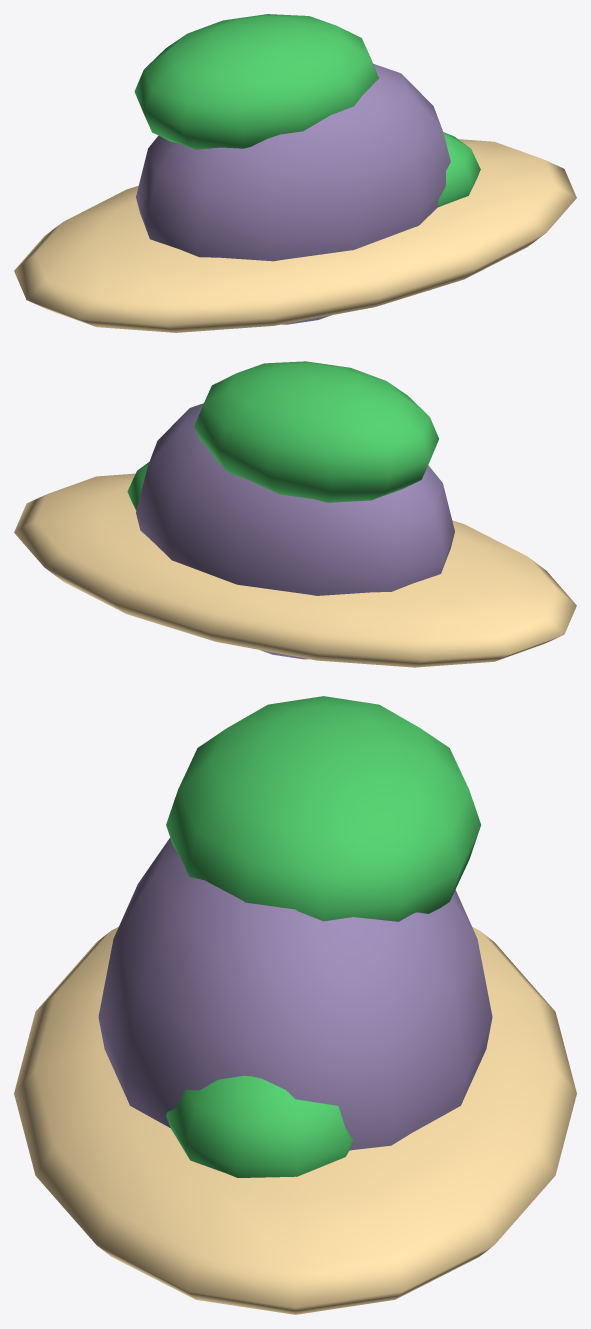
Rendered from island.glb.
3 views of the same model, one above another, from view 1: azimuth 30°, elevation 25°; view 2: azimuth 150°, elevation 25°; view 3: azimuth 270°, elevation 25° (orthographic). The views are drawn at different scales.
Visible parts, largest first — view 1: Island; view 2: Island; view 3: Island.
Boxes of the visible parts, <box> form: Island: <box>14,14,576,332</box>; Island: <box>14,361,576,667</box>; Island: <box>14,696,576,1314</box>.
Size of the model in its own units: 18 by 9.1 by 10.
